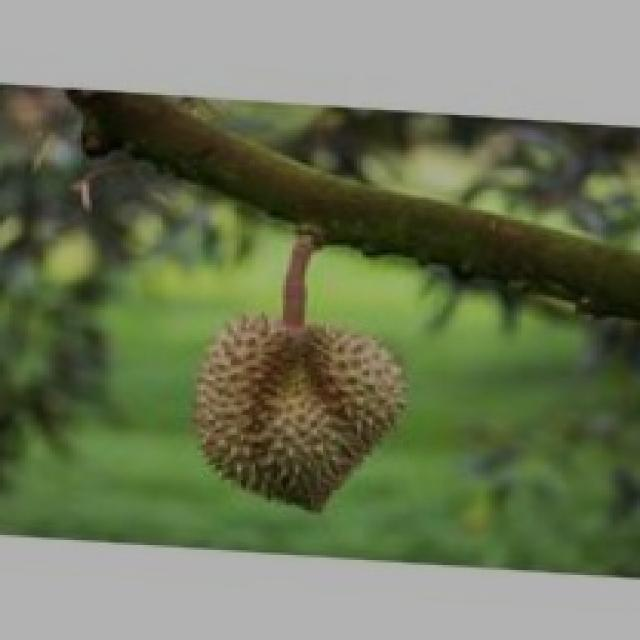fruit: (172, 285, 431, 527)
